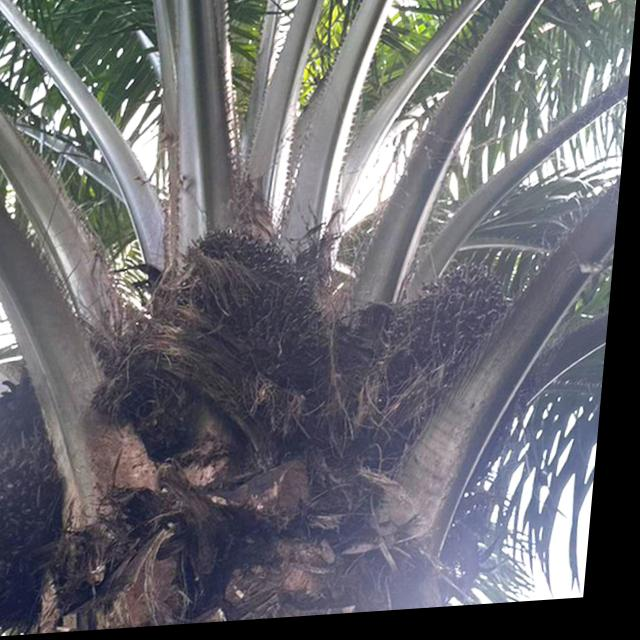unripe: (148, 216, 350, 421)
